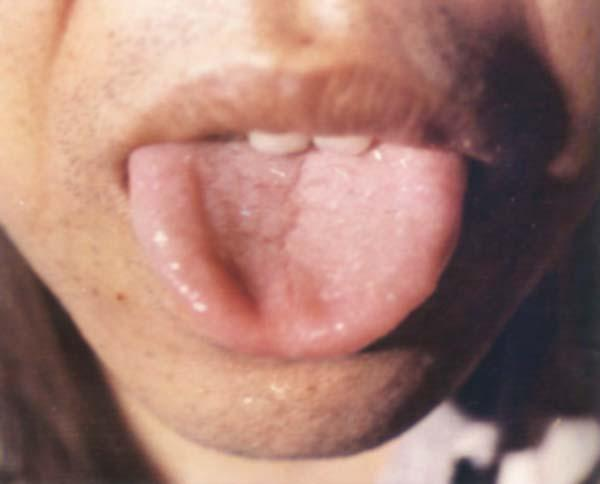baitaishe: (127, 137, 467, 358)
liewenshe: (276, 158, 320, 305)
